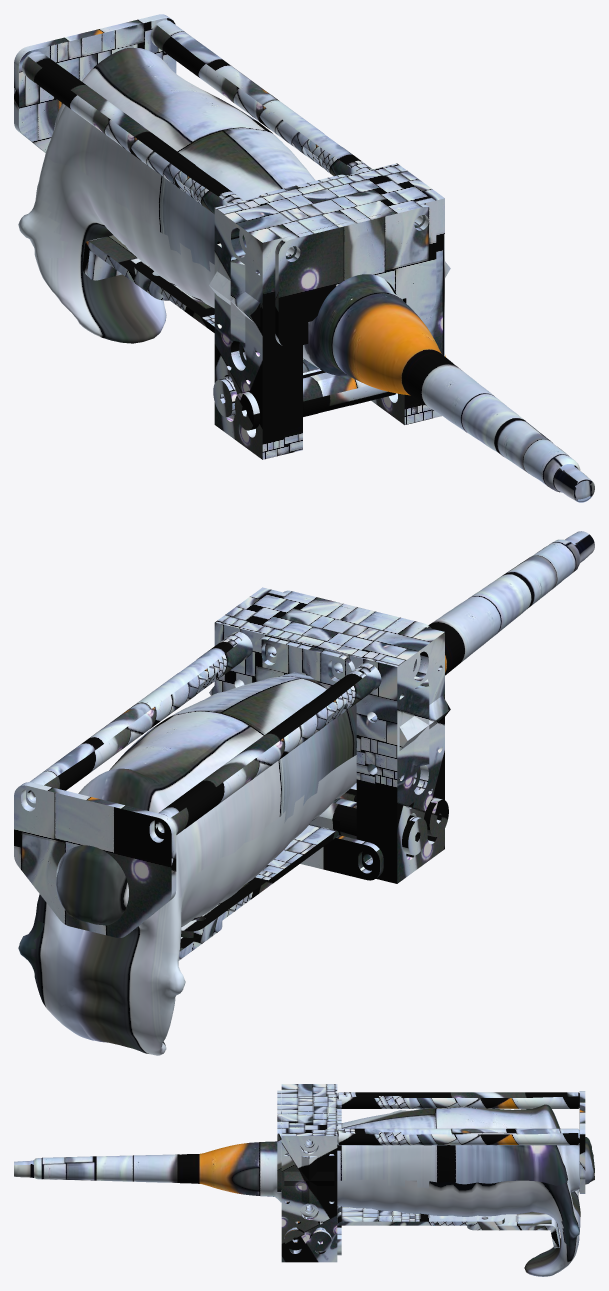
File: picus2_pipette_with_jig_300_m.obj
3 views of the same model, one above another, from view 1: azimuth 30°, elevation 25°; view 2: azimuth 150°, elevation 25°; view 3: azimuth 270°, elevation 25° (orthographic). The views are drawn at different scales.
Size of the model in its own units: 0.0479 by 0.0651 by 0.2085.
Materials: 1 (1 with a texture image).
